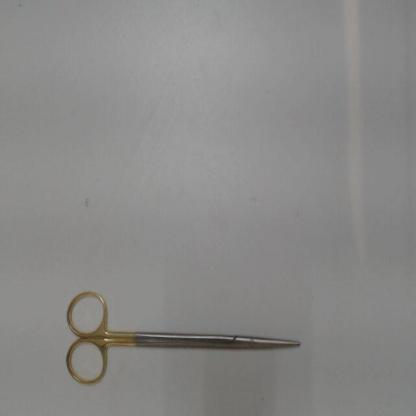7 Metzenbaum Scissors: (64, 286, 301, 389)
